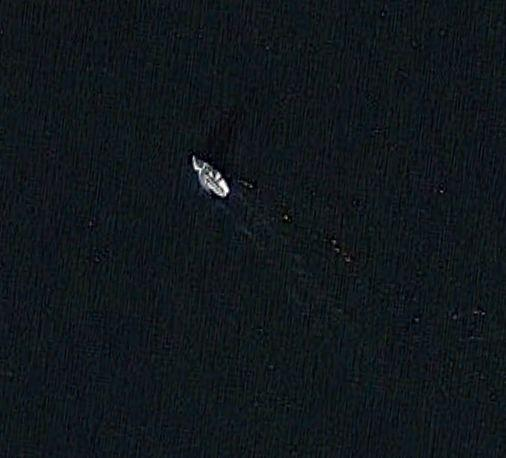Ships: (182, 140, 242, 211)
